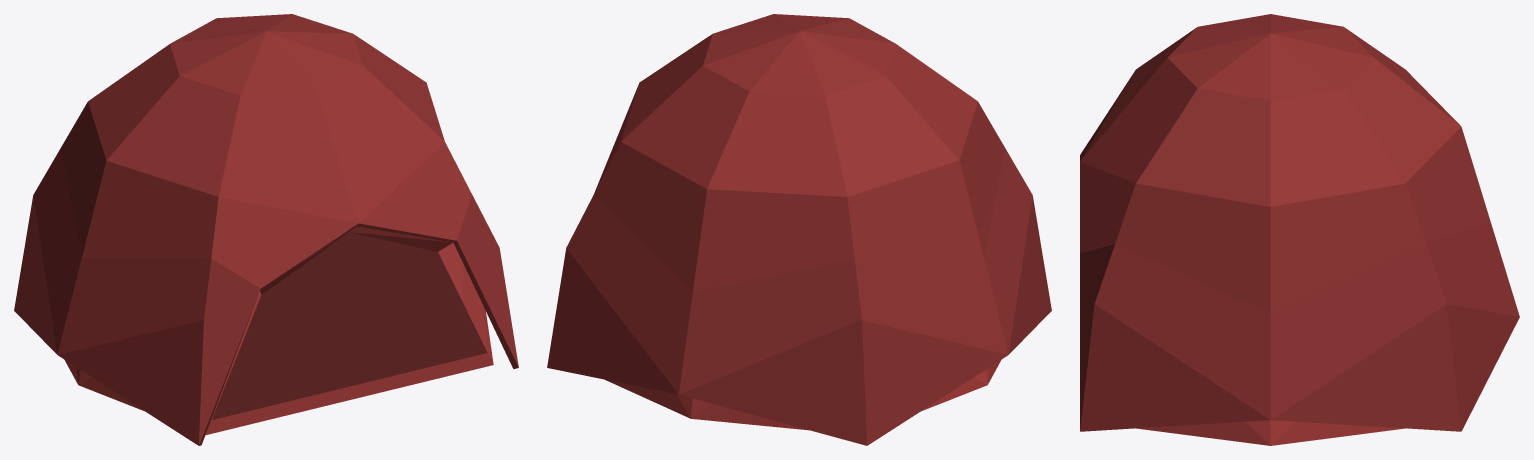
The model's file is Tent_2_Red.fbx.
3 renders of one model, left to right at view 1: azimuth 30°, elevation 25°; view 2: azimuth 150°, elevation 25°; view 3: azimuth 270°, elevation 25°, orthographic. The views are drawn at different scales.
Parts seen in each view (by area): view 1: Tent_2_Red; view 2: Tent_2_Red; view 3: Tent_2_Red.
Boxes of the visible parts, box(x1,y1,x2,y2) form: Tent_2_Red: box(14, 14, 518, 445); Tent_2_Red: box(547, 14, 1051, 445); Tent_2_Red: box(1080, 14, 1519, 445).
Size of the model in its own units: 259 by 183 by 228.
